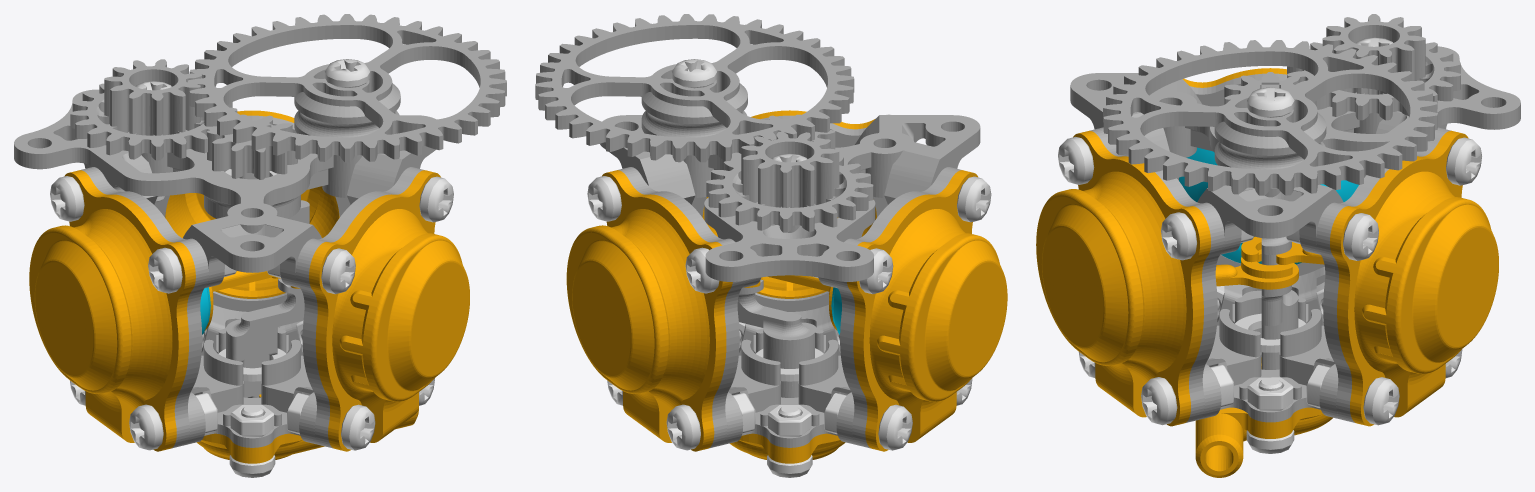
The model's file is TestModelWithParts.fbx.
The picture shows the model from 3 angles, left to right: view 1: azimuth 30°, elevation 25°; view 2: azimuth 150°, elevation 25°; view 3: azimuth 270°, elevation 25°; orthographic projection. The views are drawn at different scales.
Visible parts, largest first — view 1: Lid1, Lid.001, polySurface11, polySurface9, polySurface12, polySurface2, polySurface13, Plate.002, Plate, Lid, polySurface10, polySurface3 (+14 smaller); view 2: Lid, Lid1, polySurface11, polySurface9, polySurface12, polySurface2, polySurface13, Plate, Plate.001, polySurface3, Plate.002, Bolt2 (+12 smaller); view 3: Lid.001, Lid, polySurface11, polySurface9, polySurface2, polySurface12, polySurface3, Plate.001, Plate.002, polySurface13, Bolt2.001, Bolt4.002 (+17 smaller).
Boxes of the visible parts, x1,y1,x2,y2 form: Lid1: [29, 170, 195, 451]; Lid.001: [309, 170, 469, 451]; polySurface11: [188, 14, 506, 162]; polySurface9: [14, 89, 436, 288]; polySurface12: [70, 59, 237, 160]; polySurface2: [184, 305, 319, 447]; polySurface13: [226, 119, 309, 397]; Plate.002: [296, 167, 424, 448]; Plate: [80, 167, 208, 448]; Lid: [165, 110, 338, 290]; polySurface10: [207, 114, 297, 179]; polySurface3: [197, 408, 418, 463]; Lid: [566, 170, 732, 451]; Lid1: [847, 170, 1007, 451]; polySurface11: [535, 14, 854, 162]; polySurface9: [600, 115, 980, 288]; polySurface12: [706, 131, 873, 232]; polySurface2: [722, 305, 857, 447]; polySurface13: [737, 119, 814, 397]; Plate: [834, 167, 961, 448]; Plate.001: [618, 167, 745, 448]; polySurface3: [730, 433, 845, 463]; Plate.002: [691, 115, 887, 311]; Bolt2: [878, 404, 912, 450]; Lid.001: [1036, 130, 1210, 426]; Lid: [1330, 130, 1498, 426]; polySurface11: [1103, 40, 1437, 195]; polySurface9: [1070, 46, 1520, 254]; polySurface2: [1199, 266, 1341, 422]; polySurface12: [1287, 14, 1460, 120]; polySurface3: [1195, 407, 1332, 477]; Plate.001: [1316, 127, 1450, 422]; Plate.002: [1090, 127, 1224, 422]; polySurface13: [1261, 76, 1298, 369]; Bolt2.001: [1363, 377, 1399, 425]; Bolt4.002: [1058, 136, 1094, 184].
Bounding box in the file's own units: 64.03 × 51.02 × 60.77.
